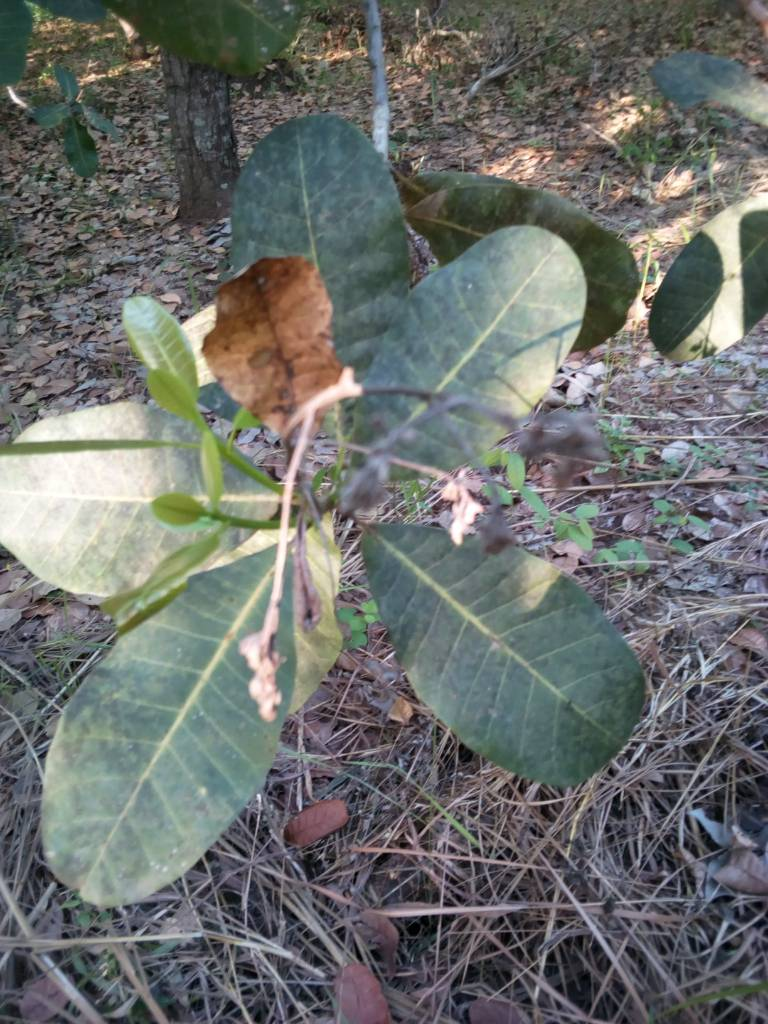Dessèchement des bourgeons: (326, 377, 610, 549)
